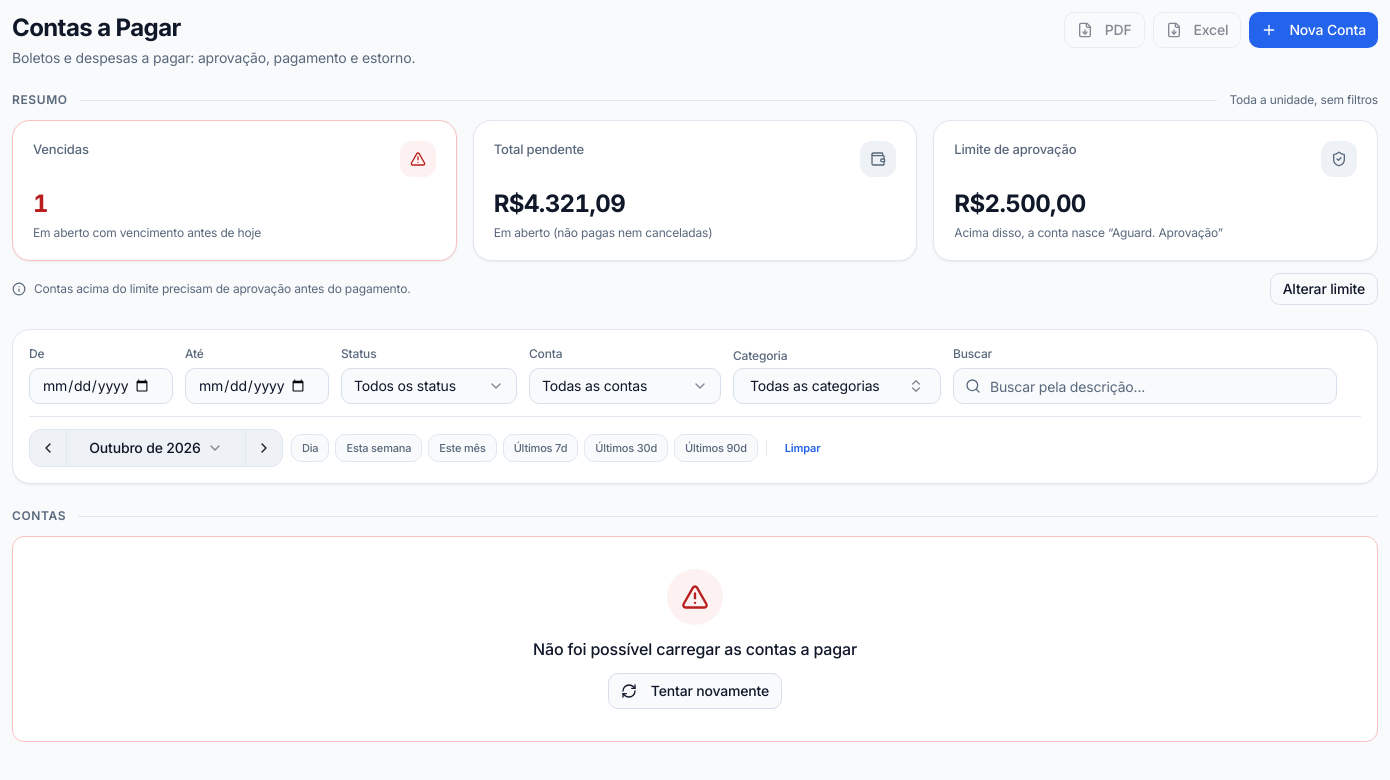
Test: Contas a Pagar (V2) › erro da lista vira estado de erro com nova tentativa, nunca "Nenhuma conta a pagar"
Expected: the text "Não foi possível carregar as contas a pagar" is shown, [533,639,857,659]
Click the button "Tentar novamente". click: [695, 691]
box: [608,673,782,709]
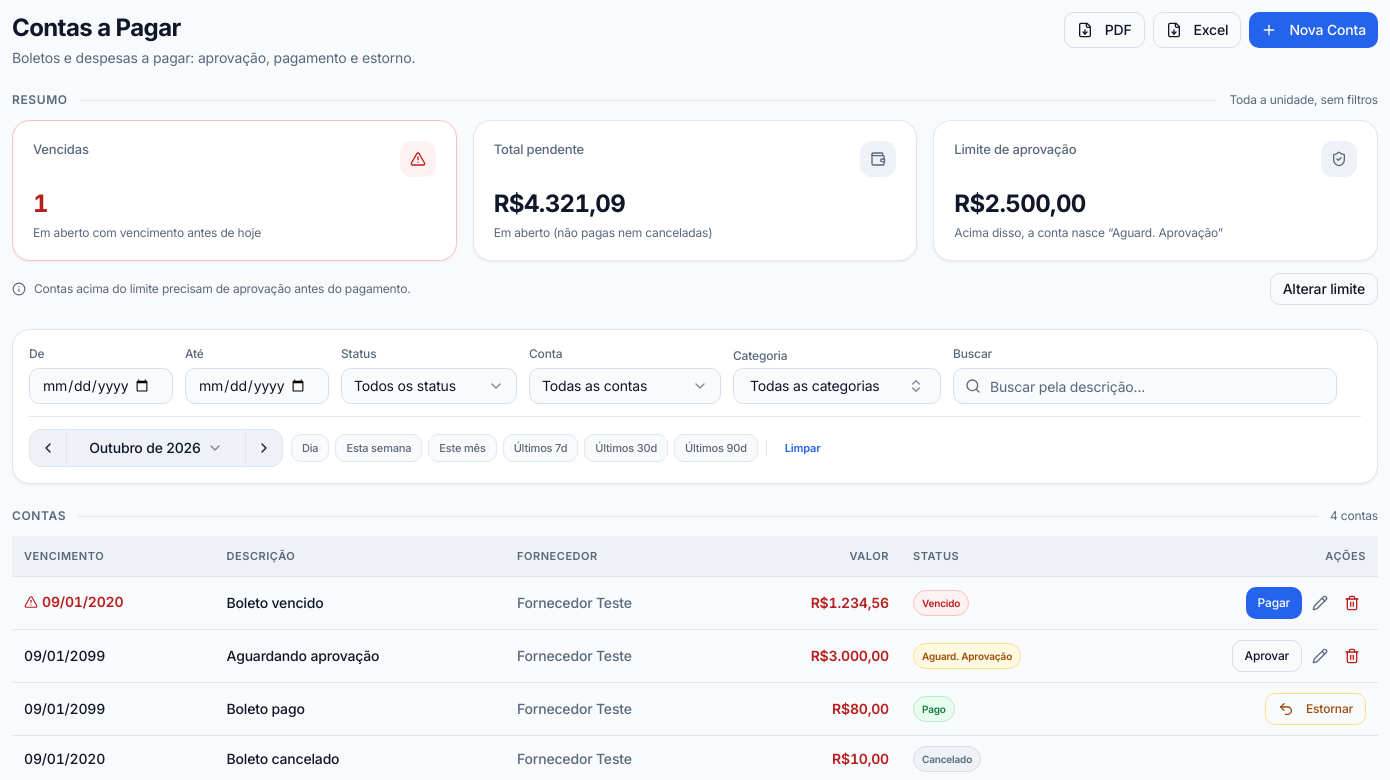
Expected: the text "Boleto vencido" is shown, [214,576,505,629]
